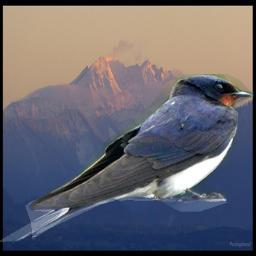Swallow: (0, 74, 254, 250)
